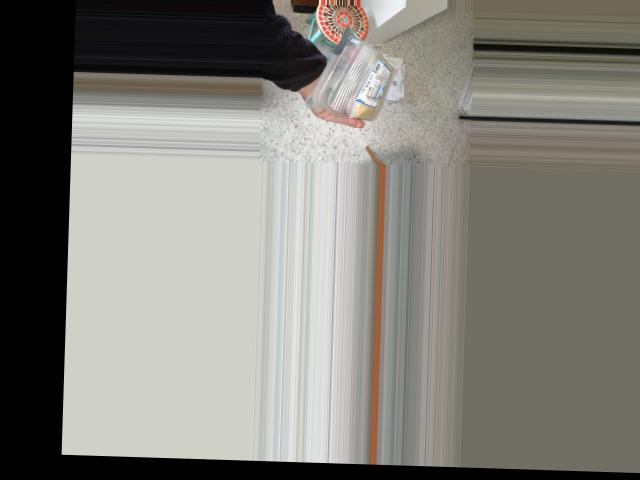cheese: (304, 21, 413, 119)
